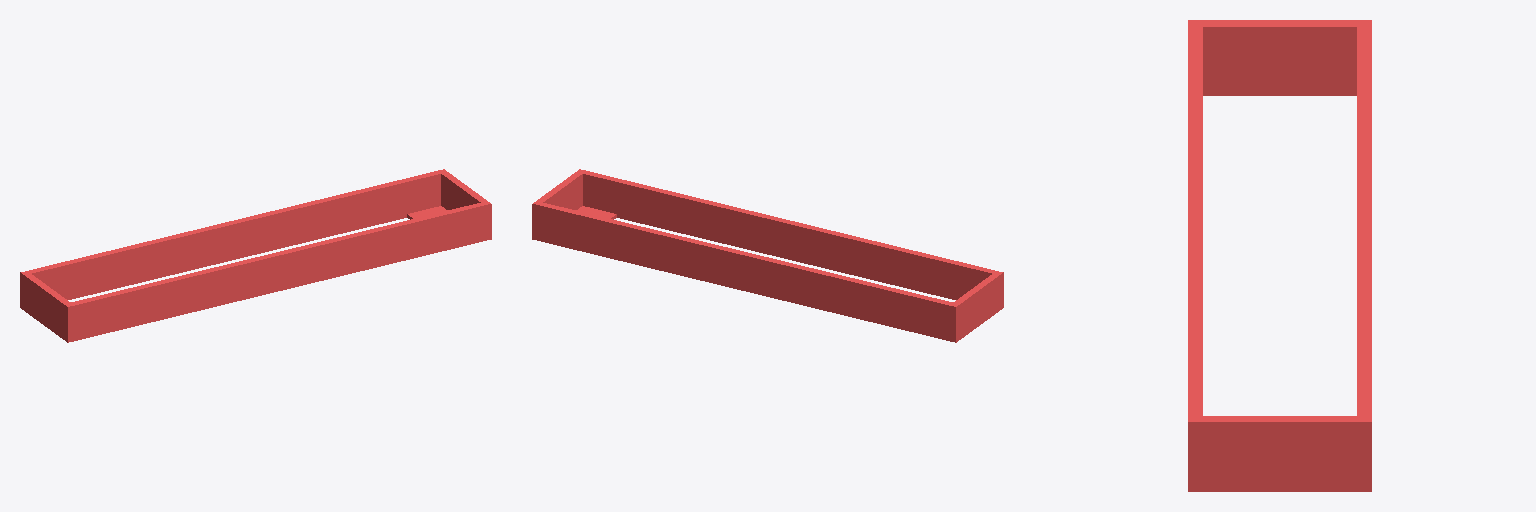
The robot description file, URDF, robot "long_room.urdf":
<?xml version="1.0" ?>
<robot name="long_room.urdf">
  <link concave="yes" name="baseLink">
    <inertial>
      <origin rpy="0 0 0" xyz="0.0 0.0 0.0"/>
       <mass value=".0"/>
       <inertia ixx="0" ixy="0" ixz="0" iyy="0" iyz="0" izz="0"/>
    </inertial>

    <visual>
      <origin rpy="1.57075 0 0" xyz="0 0 0"/>
      <geometry>
        <mesh filename="long_room.obj" scale="1 1 1"/>
      </geometry>
       <material name="red">
        <color rgba="1 0.4 0.4 1"/>
      </material>
    </visual>

    <collision concave="yes">
      <origin rpy="1.57075 0 0" xyz="0 0 0"/>
      <geometry>
	 	    <mesh filename="long_room.obj" scale="1 1 1"/>
      </geometry>
    </collision>
  </link>
</robot>

--- Facts derived from the render (not from the file) ---
Views: 3 orthographic renders of the robot side by side, from view 1: azimuth 30°, elevation 25°; view 2: azimuth 150°, elevation 25°; view 3: azimuth 270°, elevation 25°.
Robot: long_room.urdf — 1 links, 0 joints (none); root link baseLink; default pose: all joints at 0.
Visible links, largest first — view 1: baseLink; view 2: baseLink; view 3: baseLink.
Link boxes in pixels (x1=…): baseLink: x1=20, y1=169, x2=491, y2=342; baseLink: x1=532, y1=169, x2=1003, y2=342; baseLink: x1=1188, y1=20, x2=1371, y2=491.
Bounding box of the posed robot: 12.4 × 2.4 × 1 m (x, y, z).
Meshes: 1 distinct files referenced, 1 mesh visuals loaded (1 OBJ).